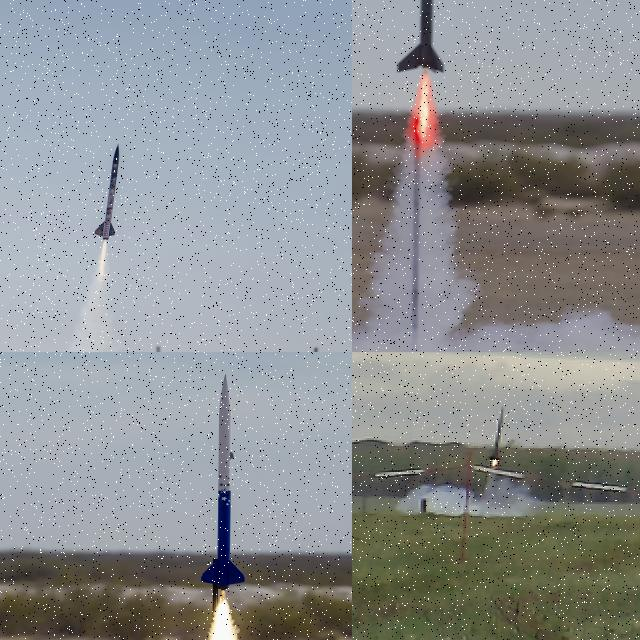Rocket: (201, 373, 246, 591), (397, 0, 444, 74), (94, 143, 120, 241), (488, 406, 505, 460)
